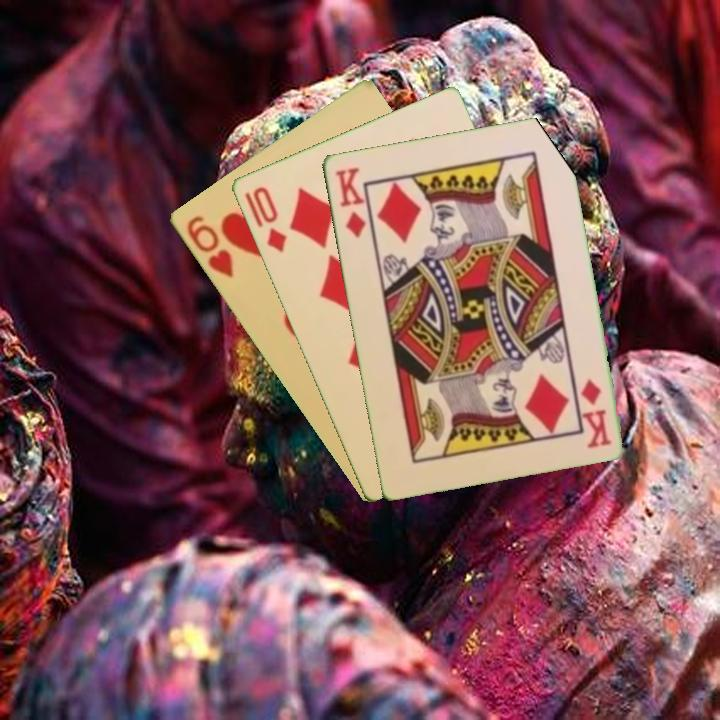10d: (240, 182, 289, 256)
6h: (182, 212, 236, 281)
Kd: (331, 163, 369, 241), (576, 375, 613, 451)
